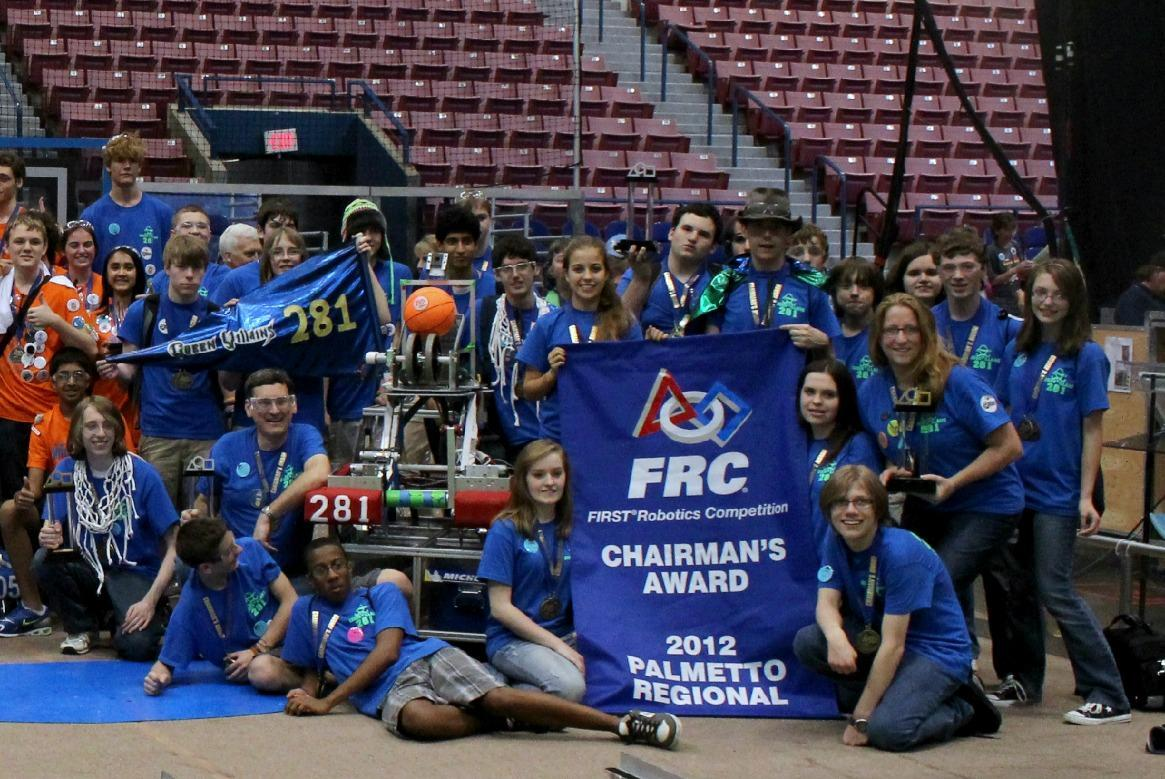robot: (299, 246, 549, 532)
